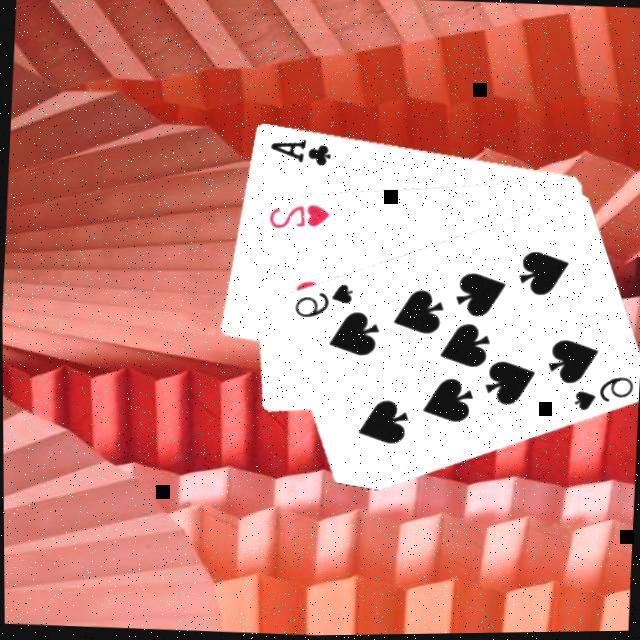2H: (266, 199, 336, 236)
9S: (571, 374, 639, 419), (292, 279, 358, 325)
AC: (268, 135, 336, 172)
